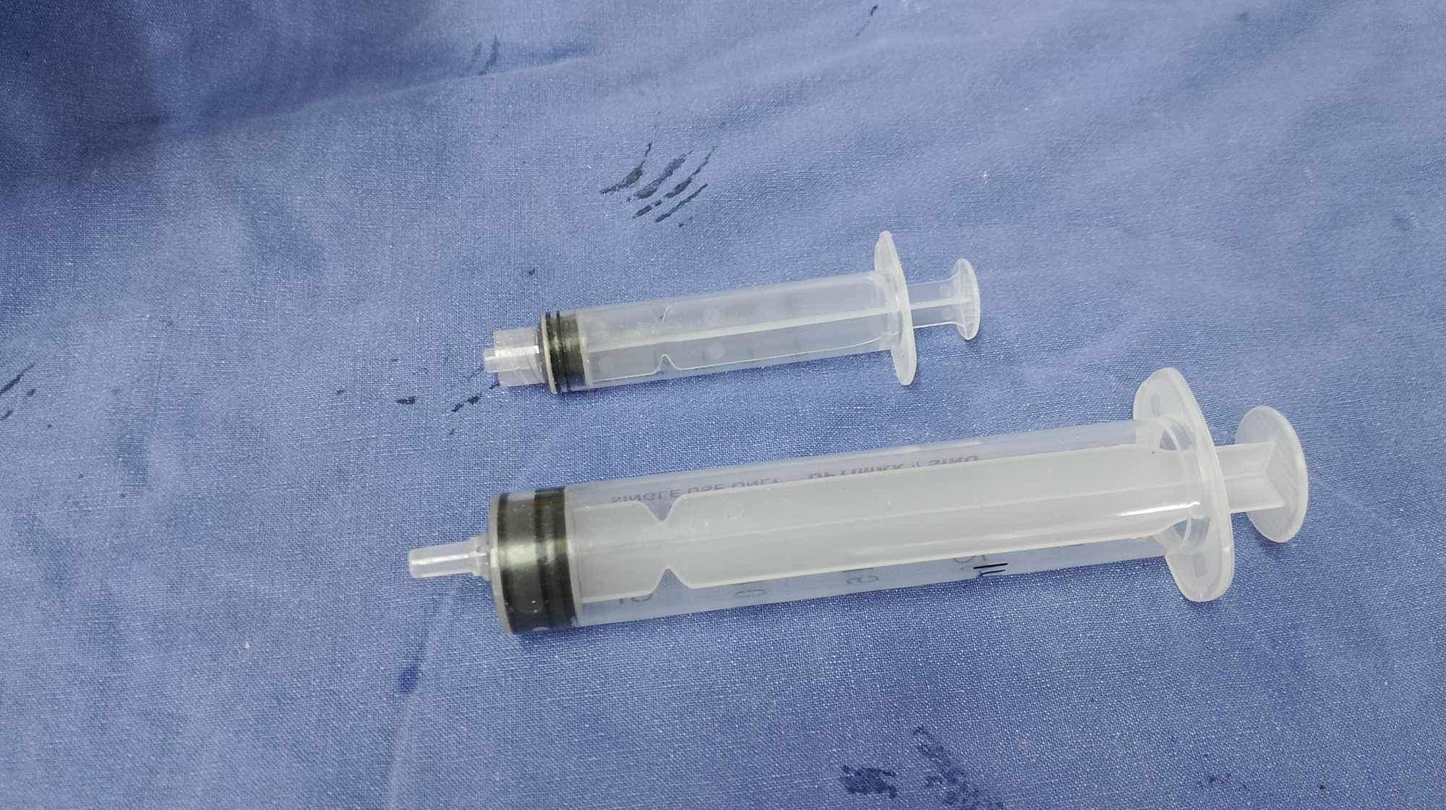General: (6, 5, 1437, 804)
Sharps: (407, 365, 1310, 639), (482, 228, 983, 397)
